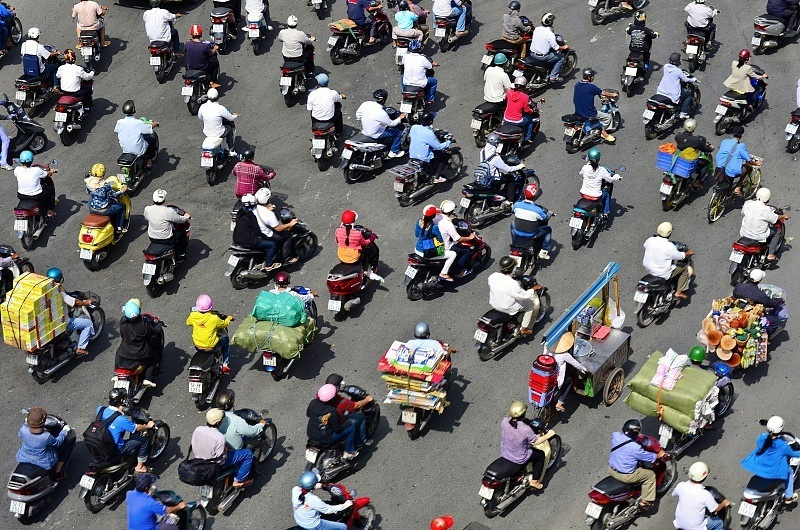non-vehicle: (178, 409, 272, 516), (81, 401, 166, 504), (480, 423, 569, 510), (2, 418, 79, 517), (24, 289, 104, 384), (381, 330, 455, 431), (241, 282, 321, 373), (221, 205, 316, 281), (581, 457, 675, 529), (405, 223, 492, 296), (478, 274, 553, 356), (703, 303, 771, 380), (185, 299, 233, 406), (633, 248, 697, 324), (729, 200, 790, 279), (460, 155, 534, 220), (75, 178, 133, 260), (338, 114, 407, 180), (658, 133, 714, 209), (393, 141, 459, 204), (506, 191, 557, 272), (10, 154, 57, 241), (643, 70, 702, 136), (568, 178, 624, 247), (741, 447, 792, 521), (329, 1, 391, 61), (706, 152, 762, 218), (712, 71, 769, 135), (326, 253, 385, 314), (515, 32, 573, 93), (1, 94, 50, 160), (141, 223, 188, 291), (200, 117, 244, 179), (681, 3, 720, 69), (751, 2, 799, 55), (146, 12, 184, 78), (563, 106, 617, 150), (431, 1, 480, 46), (621, 31, 656, 92), (238, 1, 274, 49), (52, 94, 88, 140), (209, 3, 242, 51), (591, 1, 643, 23), (0, 8, 18, 59), (785, 103, 800, 153), (305, 1, 335, 18)
